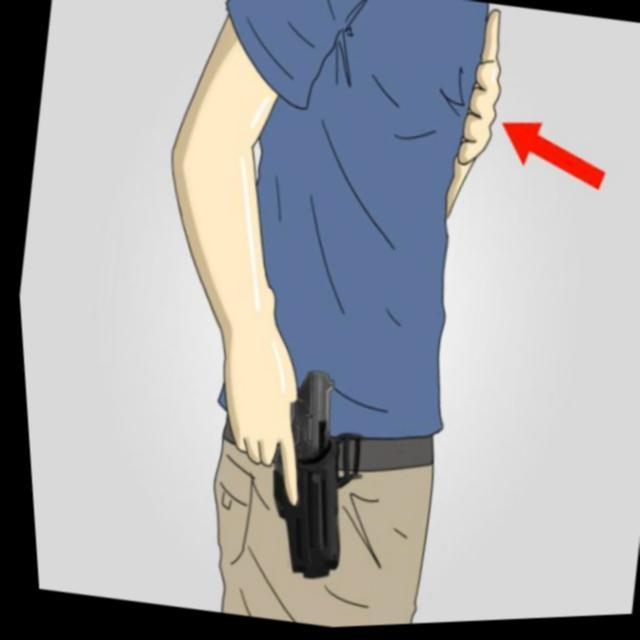weapon: (237, 362, 376, 592)
